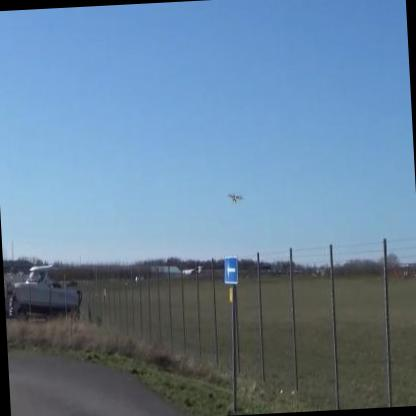plane: (224, 187, 246, 209)
